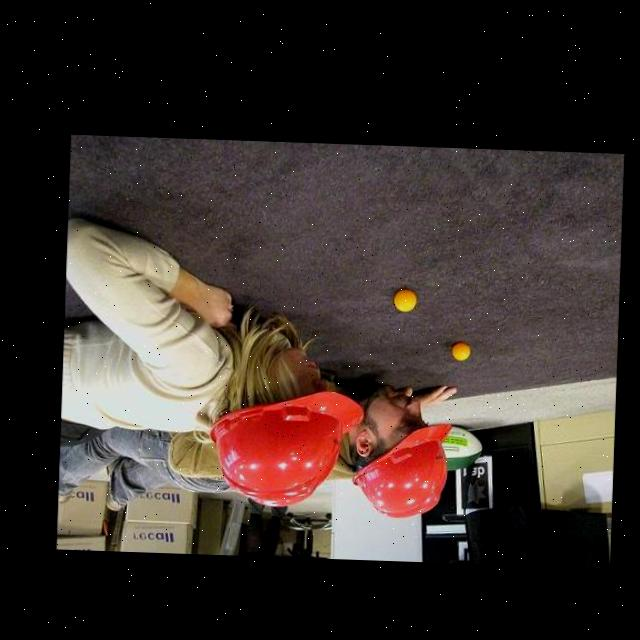ping-pong-ball: (393, 287, 418, 312), (450, 341, 470, 361)
